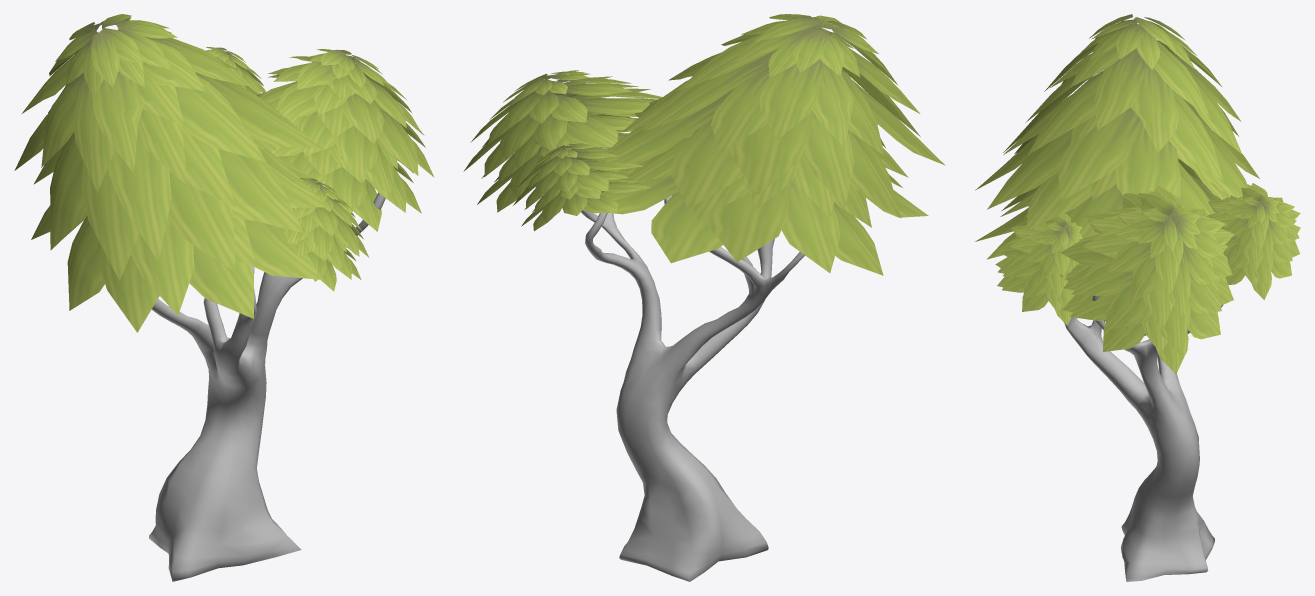
The model's file is tree2.fbx.
3 renders of one model, left to right at view 1: azimuth 30°, elevation 25°; view 2: azimuth 150°, elevation 25°; view 3: azimuth 270°, elevation 25°, orthographic. The views are drawn at different scales.
Parts seen in each view (by area): view 1: Plane.021; view 2: Plane.021; view 3: Plane.021.
Part boxes in pixels (left/top/right/bottom): Plane.021: left=14, top=14, right=434, bottom=581; Plane.021: left=463, top=14, right=945, bottom=581; Plane.021: left=975, top=14, right=1300, bottom=581.
Size of the model in its own units: 383 by 503 by 305.
